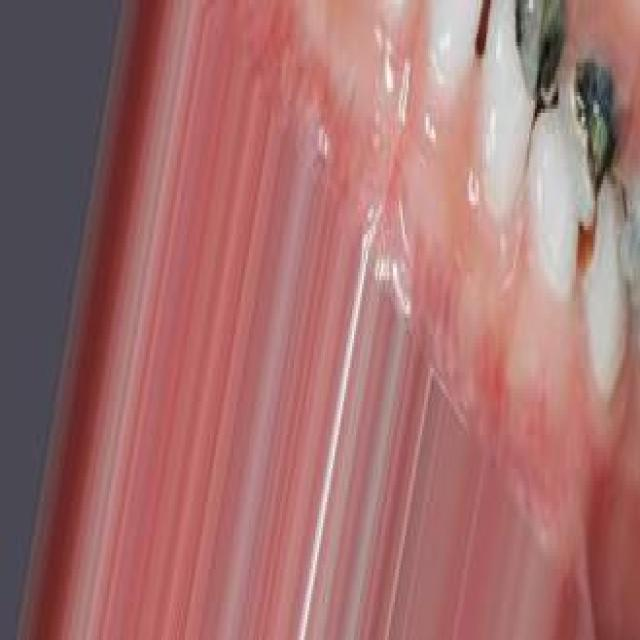caries: (562, 34, 621, 230), (509, 0, 569, 126)
